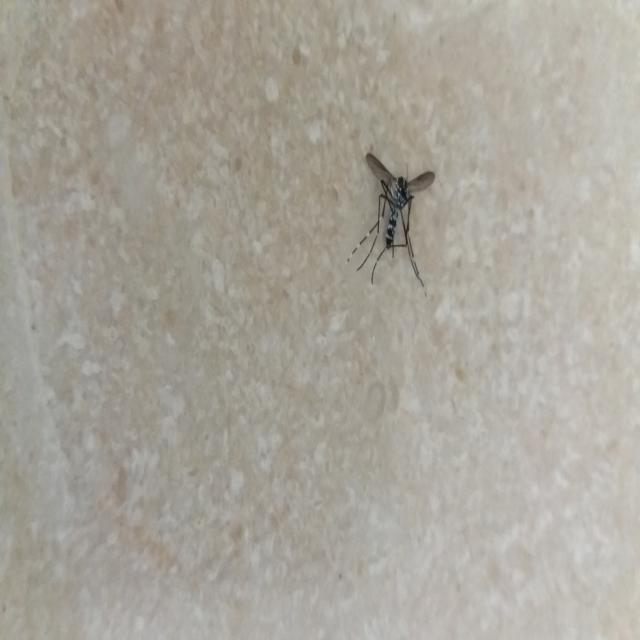albopictus: (344, 140, 439, 296)
